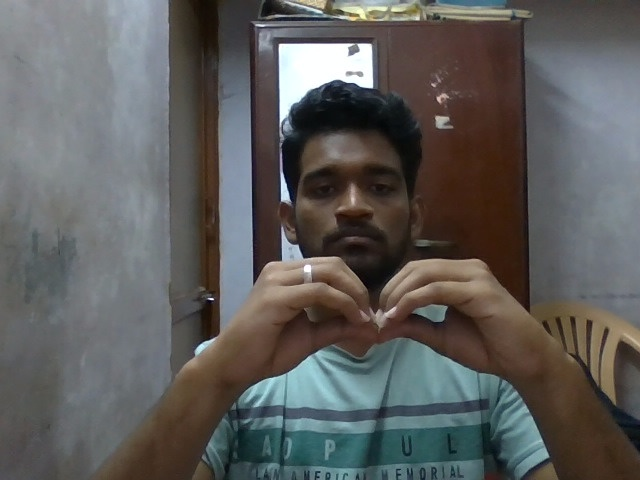B: (189, 252, 573, 402)
